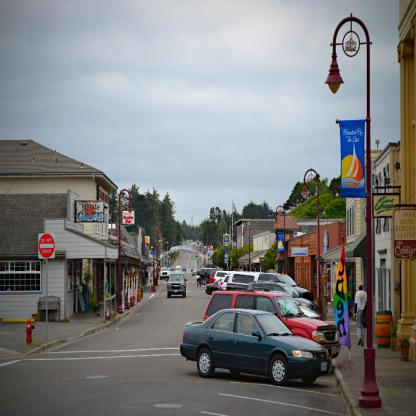Car: (180, 267, 341, 386), (160, 264, 188, 295)
